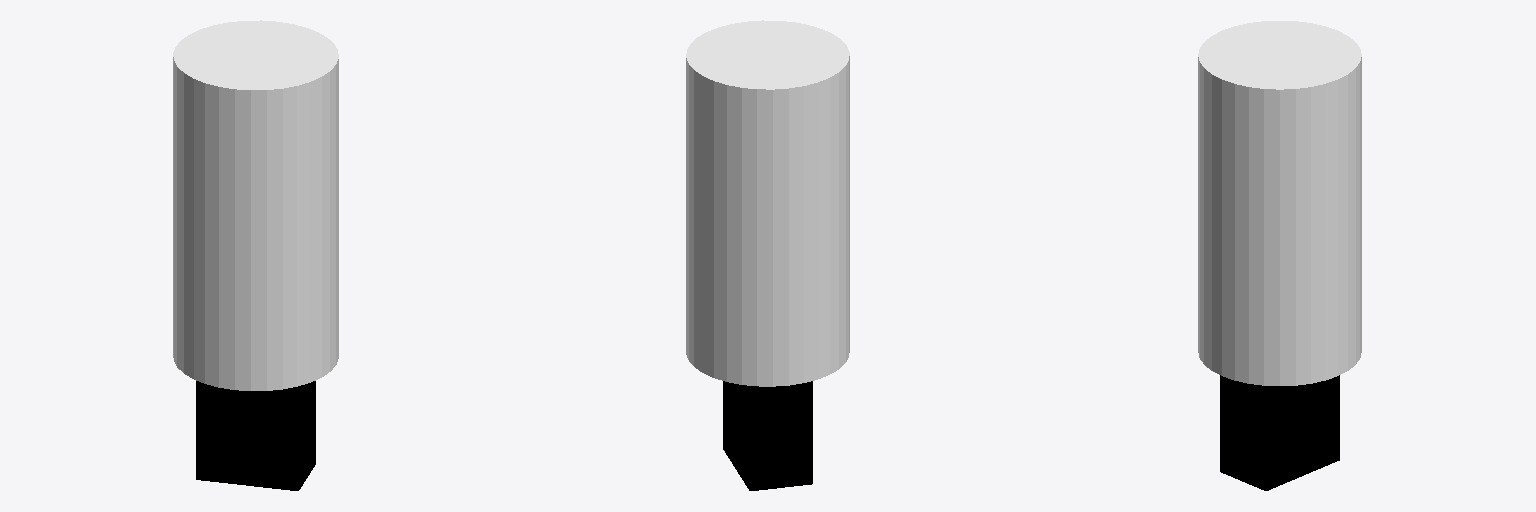
URDF robot description (panda):
<?xml version="1.0" ?>
<!-- =================================================================================== -->
<!-- |    This document was autogenerated by xacro from panda_arm_hand.urdf.xacro      | -->
<!-- |    EDITING THIS FILE BY HAND IS NOT RECOMMENDED                                 | -->
<!-- =================================================================================== -->
<robot name="panda" xmlns:xacro="http://www.ros.org/wiki/xacro">
  <link name="panda_link0">
  	<inertial>
      <origin rpy="0 0 0" xyz="0 0 0.05"/>
       <mass value="2.9"/>
       <inertia ixx="0.1" ixy="0" ixz="0" iyy="0.1" iyz="0" izz="0.1"/>
    </inertial>
    <visual>
      <geometry>
        <mesh filename="package://meshes/collision/link0.obj"/>
      </geometry>
      <material name="panda_white">
    		<color rgba="1. 1. 1. 1."/>
  		</material>
    </visual>
    <collision>
      <geometry>
        <mesh filename="package://meshes/collision/link0.obj"/>
      </geometry>
      <material name="panda_white"/>
    </collision>
  </link>
  <link name="panda_link1">
  	<inertial>
      <origin rpy="0 0 0" xyz="0 -0.04 -0.05"/>
       <mass value="2.7"/>
       <inertia ixx="0.1" ixy="0" ixz="0" iyy="0.1" iyz="0" izz="0.1"/>
    </inertial>
    <visual>
      <geometry>
        <mesh filename="package://meshes/visual/link1.obj"/>
      </geometry>
      <material name="panda_white"/>
    </visual>
    <collision>
      <geometry>
        <mesh filename="package://meshes/collision/link1.obj"/>
      </geometry>
      <material name="panda_white"/>
    </collision>
  </link>
  <joint name="panda_joint1" type="revolute">
    <safety_controller k_position="100.0" k_velocity="40.0" soft_lower_limit="-2.8973" soft_upper_limit="2.8973"/>
    <origin rpy="0 0 0" xyz="0 0 0.333"/>
    <parent link="panda_link0"/>
    <child link="panda_link1"/>
    <axis xyz="0 0 1"/>
    <limit effort="87" lower="-2.9671" upper="2.9671" velocity="2.1750"/>
  </joint>
  <link name="panda_link2">
  	<inertial>
      <origin rpy="0 0 0" xyz="0 -0.04 0.06"/>
       <mass value="2.73"/>
       <inertia ixx="0.1" ixy="0" ixz="0" iyy="0.1" iyz="0" izz="0.1"/>
    </inertial>
    <visual>
      <geometry>
        <mesh filename="package://meshes/visual/link2.obj"/>
      </geometry>
      <material name="panda_white"/>
    </visual>
    <collision>
      <geometry>
        <mesh filename="package://meshes/collision/link2.obj"/>
      </geometry>
      <material name="panda_white"/>
    </collision>
  </link>
  <joint name="panda_joint2" type="revolute">
    <safety_controller k_position="100.0" k_velocity="40.0" soft_lower_limit="-1.7628" soft_upper_limit="1.7628"/>
    <origin rpy="-1.57079632679 0 0" xyz="0 0 0"/>
    <parent link="panda_link1"/>
    <child link="panda_link2"/>
    <axis xyz="0 0 1"/>
    <limit effort="87" lower="-1.8326" upper="1.8326" velocity="2.1750"/>
  </joint>
  <link name="panda_link3">
	  <inertial>
      <origin rpy="0 0 0" xyz="0.01 0.01 -0.05"/>
       <mass value="2.04"/>
       <inertia ixx="0.1" ixy="0" ixz="0" iyy="0.1" iyz="0" izz="0.1"/>
    </inertial>
    <visual>
      <geometry>
        <mesh filename="package://meshes/visual/link3.obj"/>
      </geometry>
      <material name="panda_red">
    		<color rgba="1. 1. 1. 1."/>
  		</material>
    </visual>
    <collision>
      <geometry>
        <mesh filename="package://meshes/collision/link3.obj"/>
      </geometry>
    </collision>
  </link>
  <joint name="panda_joint3" type="revolute">
    <safety_controller k_position="100.0" k_velocity="40.0" soft_lower_limit="-2.8973" soft_upper_limit="2.8973"/>
    <origin rpy="1.57079632679 0 0" xyz="0 -0.316 0"/>
    <parent link="panda_link2"/>
    <child link="panda_link3"/>
    <axis xyz="0 0 1"/>
    <limit effort="87" lower="-2.9671" upper="2.9671" velocity="2.1750"/>
  </joint>
  <link name="panda_link4">
  	<inertial>
      <origin rpy="0 0 0" xyz="-0.03 0.03 0.02"/>
       <mass value="2.08"/>
       <inertia ixx="0.1" ixy="0" ixz="0" iyy="0.1" iyz="0" izz="0.1"/>
    </inertial>
    <visual>
      <geometry>
        <mesh filename="package://meshes/visual/link4.obj"/>
      </geometry>
      <material name="panda_white"/>
    </visual>
    <collision>
      <geometry>
        <mesh filename="package://meshes/collision/link4.obj"/>
      </geometry>
      <material name="panda_white"/>
    </collision>
  </link>
  <joint name="panda_joint4" type="revolute">
    <safety_controller k_position="100.0" k_velocity="40.0" soft_lower_limit="-3.0718" soft_upper_limit="-0.0698"/>
    <origin rpy="1.57079632679 0 0" xyz="0.0825 0 0"/>
    <parent link="panda_link3"/>
    <child link="panda_link4"/>
    <axis xyz="0 0 1"/>
    <limit effort="87" lower="-3.1416" upper="0.0" velocity="2.1750"/>
  </joint>
  <link name="panda_link5">
  	<inertial>
      <origin rpy="0 0 0" xyz="0 0.04 -0.12"/>
       <mass value="3"/>
       <inertia ixx="0.1" ixy="0" ixz="0" iyy="0.1" iyz="0" izz="0.1"/>
    </inertial>
    <visual>
      <geometry>
        <mesh filename="package://meshes/visual/link5.obj"/>
      </geometry>
      <material name="panda_white"/>
    </visual>
    <collision>
      <geometry>
        <mesh filename="package://meshes/collision/link5.obj"/>
      </geometry>
      <material name="panda_white"/>
    </collision>
  </link>
  <joint name="panda_joint5" type="revolute">
    <safety_controller k_position="100.0" k_velocity="40.0" soft_lower_limit="-2.8973" soft_upper_limit="2.8973"/>
    <origin rpy="-1.57079632679 0 0" xyz="-0.0825 0.384 0"/>
    <parent link="panda_link4"/>
    <child link="panda_link5"/>
    <axis xyz="0 0 1"/>
    <limit effort="12" lower="-2.9671" upper="2.9671" velocity="2.6100"/>
  </joint>
  <link name="panda_link6">
  	<inertial>
      <origin rpy="0 0 0" xyz="0.04 0 0"/>
       <mass value="1.3"/>
       <inertia ixx="0.1" ixy="0" ixz="0" iyy="0.1" iyz="0" izz="0.1"/>
    </inertial>
    <visual>
      <geometry>
        <mesh filename="package://meshes/visual/link6.obj"/>
      </geometry>
      <material name="panda_white"/>
    </visual>
    <collision>
      <geometry>
        <mesh filename="package://meshes/collision/link6.obj"/>
      </geometry>
      <material name="panda_white"/>
    </collision>
  </link>
  <joint name="panda_joint6" type="revolute">
    <safety_controller k_position="100.0" k_velocity="40.0" soft_lower_limit="-0.0175" soft_upper_limit="3.7525"/>
    <origin rpy="1.57079632679 0 0" xyz="0 0 0"/>
    <parent link="panda_link5"/>
    <child link="panda_link6"/>
    <axis xyz="0 0 1"/>
    <limit effort="12" lower="-0.0873" upper="3.8223" velocity="2.6100"/>
  </joint>
  <link name="panda_link7">
  	<inertial>
      <origin rpy="0 0 0" xyz="0 0 0.08"/>
       <mass value=".2"/>
       <inertia ixx="0.1" ixy="0" ixz="0" iyy="0.1" iyz="0" izz="0.1"/>
    </inertial>
    <visual>
      <geometry>
        <mesh filename="package://meshes/collision/link7.obj"/>
      </geometry>
      <material name="panda_white"/>
    </visual>
    <collision>
      <geometry>
        <mesh filename="package://meshes/collision/link7.obj"/>
      </geometry>
      <material name="panda_white"/>
    </collision>
  </link>
  <joint name="panda_joint7" type="revolute">
    <safety_controller k_position="100.0" k_velocity="40.0" soft_lower_limit="-3.0" soft_upper_limit="3.0"/>
    <!-- <safety_controller k_position="100.0" k_velocity="40.0" soft_lower_limit="-2.8973" soft_upper_limit="2.8973"/> -->
    <origin rpy="1.57079632679 0 0" xyz="0.088 0 0"/>
    <parent link="panda_link6"/>
    <child link="panda_link7"/>
    <axis xyz="0 0 1"/>
    <limit effort="12" lower="-3.1" upper="3.1" velocity="2.6100"/>
    <!-- <limit effort="12" lower="-2.9671" upper="2.9671" velocity="2.6100"/> -->
  </joint>
  <link name="panda_link8">
  	 <inertial>
      <origin rpy="0 0 0" xyz="0 0 0"/>
       <mass value="0.0"/>
       <inertia ixx="0.1" ixy="0" ixz="0" iyy="0.1" iyz="0" izz="0.1"/>
    </inertial>
  </link>
  <joint name="panda_joint8" type="fixed">
    <origin rpy="0 0 0" xyz="0 0 0.107"/>
    <parent link="panda_link7"/>
    <child link="panda_link8"/>
    <axis xyz="0 0 0"/>
  </joint>
  <joint name="panda_hand_joint" type="fixed">
    <parent link="panda_link8"/>
    <child link="panda_hand"/>
    <origin rpy="0 0 0" xyz="0 0 0.05"/>
  </joint>
  <link name="panda_hand">
    <visual>
      <geometry>
        <cylinder radius="0.025" length="0.1"/>
      </geometry>
      <material name="panda_white"/>
    </visual>
    <inertial>
      <origin rpy="0 0 0" xyz="0 0 0."/>
      <mass value="0.1"/>
      <inertia ixx="0.1" ixy="0" ixz="0" iyy="0.1" iyz="0" izz="0.1"/>
    </inertial>
    <collision>
     <geometry>
        <cylinder radius="0.025" length="0.1"/>
     </geometry>
    </collision>
  </link>
  <joint name="panda_sensor_joint" type="fixed">
    <parent link="panda_hand"/>
    <child link="camera"/>
    <origin rpy="0 0 0.78539816339" xyz="0.0 0.0 0.07"/>
  </joint>
  <link name="camera">
    <inertial>
      <origin rpy="0 0 0" xyz="-0.016 -0.01 -0.0185"/>
      <mass value="0.1"/>
      <inertia ixx="0.1" ixy="0" ixz="0" iyy="0.1" iyz="0" izz="0.1"/>
    </inertial>
    <visual>
      <geometry>
        <box size=".032 .02 .037"/>
      </geometry>
      <material name="Black">
        <color rgba="0 0 0 1"/>
      </material>
    </visual>
    <collision>
      <geometry>
        <box size=".032 .02 .037"/>
      </geometry>
      <material name="Black">
        <color rgba="0 0 0 1"/>
      </material>
    </collision>
  </link>
</robot>

--- Render facts (derived) ---
The picture shows the robot from 3 angles, left to right: view 1: azimuth 30°, elevation 25°; view 2: azimuth 150°, elevation 25°; view 3: azimuth 270°, elevation 25°; orthographic projection.
Model panda with 11 links and 10 joints (7 revolute, 3 fixed), rooted at panda_link0, posed every joint at zero.
Visible links, largest first — view 1: panda_hand, camera; view 2: panda_hand, camera; view 3: panda_hand, camera.
Link boxes in pixels (x1=…): panda_hand: x1=173, y1=20, x2=338, y2=390; camera: x1=196, y1=381, x2=315, y2=490; panda_hand: x1=686, y1=20, x2=849, y2=386; camera: x1=723, y1=381, x2=812, y2=490; panda_hand: x1=1198, y1=21, x2=1361, y2=385; camera: x1=1220, y1=375, x2=1339, y2=490.
Size in the robot's own frame: 0.05 by 0.05 by 0.1385 metres.
0 mesh visuals loaded from 8 distinct referenced files (none loaded); not drawn: 8 (reference not matched to a file when rendering).